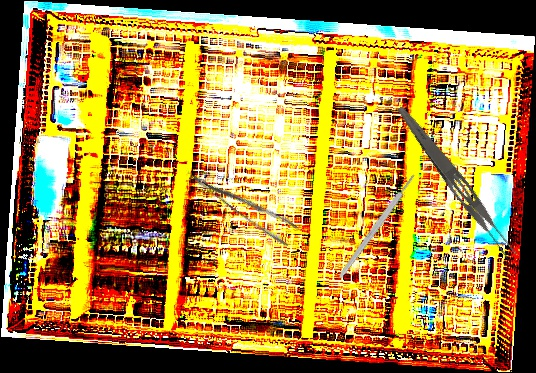Dressing Forceps: (390, 103, 521, 263), (190, 159, 301, 249)
Scalpel Handle: (336, 172, 418, 281)
